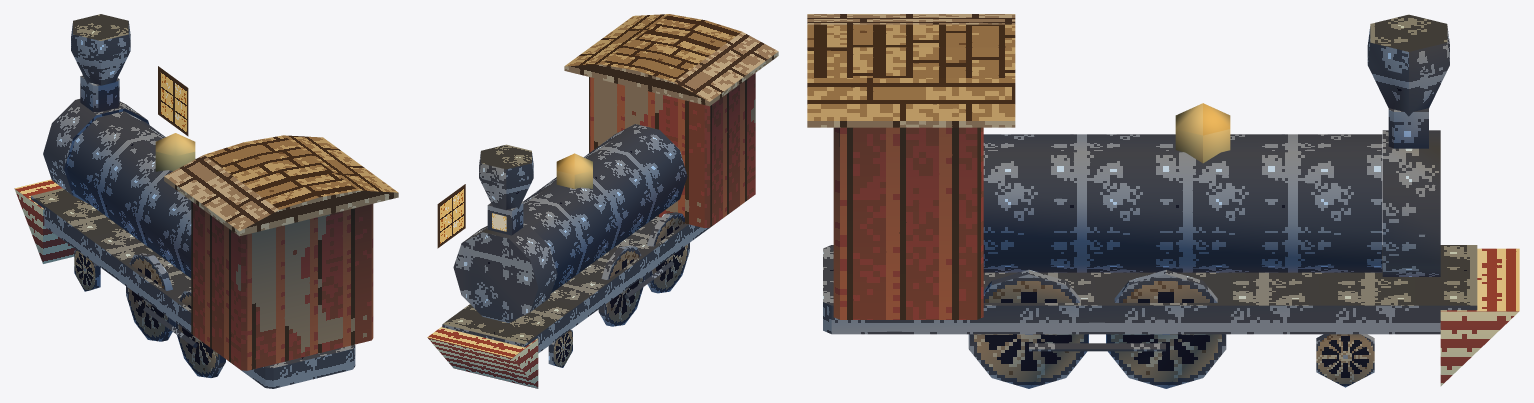
The model's file is wrail.locomotive.glb.
3 views of the same model, side by side, from view 1: azimuth 30°, elevation 25°; view 2: azimuth 150°, elevation 25°; view 3: azimuth 270°, elevation 25° (orthographic). The views are drawn at different scales.
Visible parts, largest first — view 1: kit_cab, kit_cab_roof, kit_boiler, kit_frame, kit_drivers, kit_stack, kit_smokebox, kit_pilot, kit_card_panes, kit_domes, kit_lamp, kit_leaders (+1 smaller); view 2: kit_boiler, kit_cab, kit_cab_roof, kit_frame, kit_smokebox, kit_pilot, kit_drivers, kit_stack, kit_card_panes, kit_domes, kit_lamp, kit_leaders; view 3: kit_boiler, kit_frame, kit_cab, kit_cab_roof, kit_drivers, kit_smokebox, kit_stack, kit_pilot, kit_leaders, kit_domes, kit_lamp, kit_rods.
Part boxes in pixels (box(x1,y1,x2,y2)): kit_cab: box(191, 201, 373, 370); kit_cab_roof: box(164, 135, 398, 236); kit_boiler: box(67, 111, 195, 277); kit_frame: box(31, 188, 355, 388); kit_drivers: box(126, 253, 225, 377); kit_stack: box(71, 14, 130, 85); kit_smokebox: box(43, 99, 149, 203); kit_pilot: box(14, 179, 75, 263); kit_card_panes: box(158, 66, 188, 136); kit_domes: box(155, 133, 195, 171); kit_lamp: box(80, 75, 119, 112); kit_leaders: box(74, 250, 100, 291); kit_boiler: box(523, 124, 687, 293); kit_cab: box(589, 73, 755, 228); kit_cab_roof: box(564, 14, 778, 106); kit_frame: box(442, 215, 726, 353); kit_smokebox: box(453, 223, 557, 322); kit_pilot: box(427, 326, 538, 388); kit_drivers: box(598, 212, 689, 326); kit_stack: box(479, 144, 533, 210); kit_card_panes: box(437, 184, 465, 248); kit_domes: box(556, 153, 592, 188); kit_lamp: box(487, 201, 523, 235); kit_leaders: box(548, 330, 572, 367); kit_boiler: box(983, 134, 1382, 272); kit_frame: box(823, 245, 1477, 334); kit_cab: box(833, 127, 983, 319); kit_cab_roof: box(807, 14, 1015, 127); kit_drivers: box(968, 270, 1226, 388); kit_smokebox: box(1382, 130, 1440, 276); kit_stack: box(1367, 14, 1449, 116); kit_pilot: box(1440, 248, 1519, 386); kit_leaders: box(1316, 334, 1374, 387); kit_domes: box(1175, 103, 1230, 163); kit_lamp: box(1388, 108, 1428, 148); kit_rods: box(1029, 343, 1165, 351).
Bounding box in the file's own units: 2.4 × 3.43 × 6.75.
Materials: 8 (7 with a texture image).
